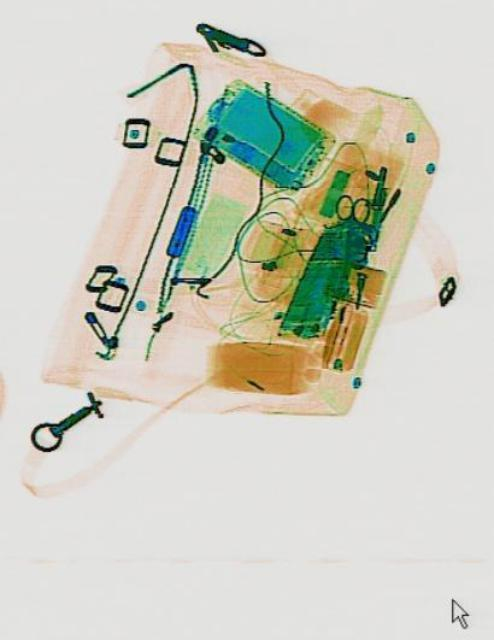Scissors: (323, 192, 368, 276)
